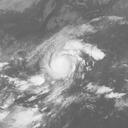cyclone: (38, 32, 89, 81)
